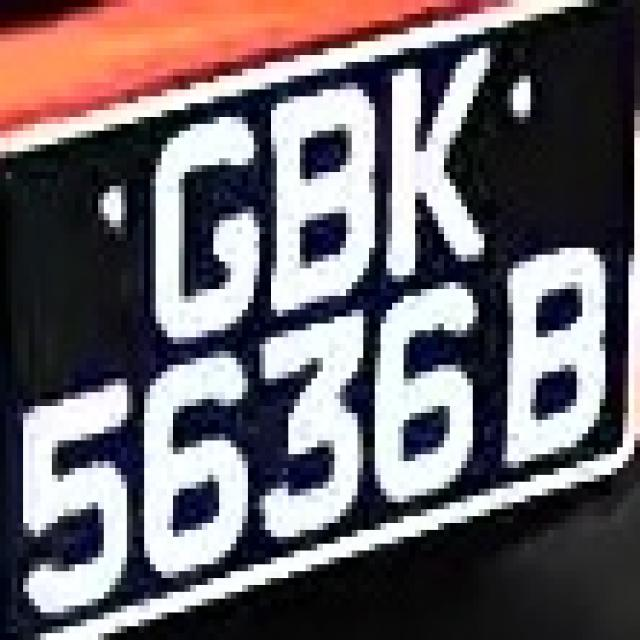3: (242, 303, 369, 530)
5: (0, 378, 150, 620)
6: (138, 330, 271, 599), (364, 282, 484, 496)
B: (490, 234, 629, 495), (260, 62, 392, 323)
G: (133, 103, 271, 351)
K: (375, 21, 496, 289)
